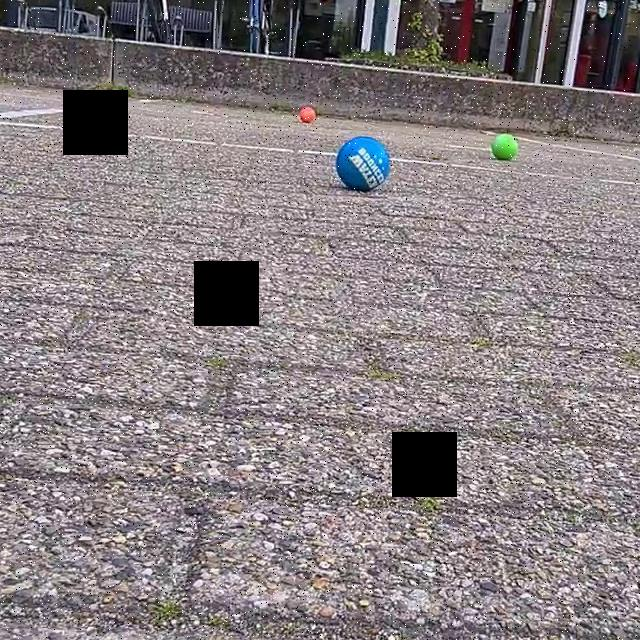ball: (490, 129, 520, 164), (296, 104, 316, 124)
